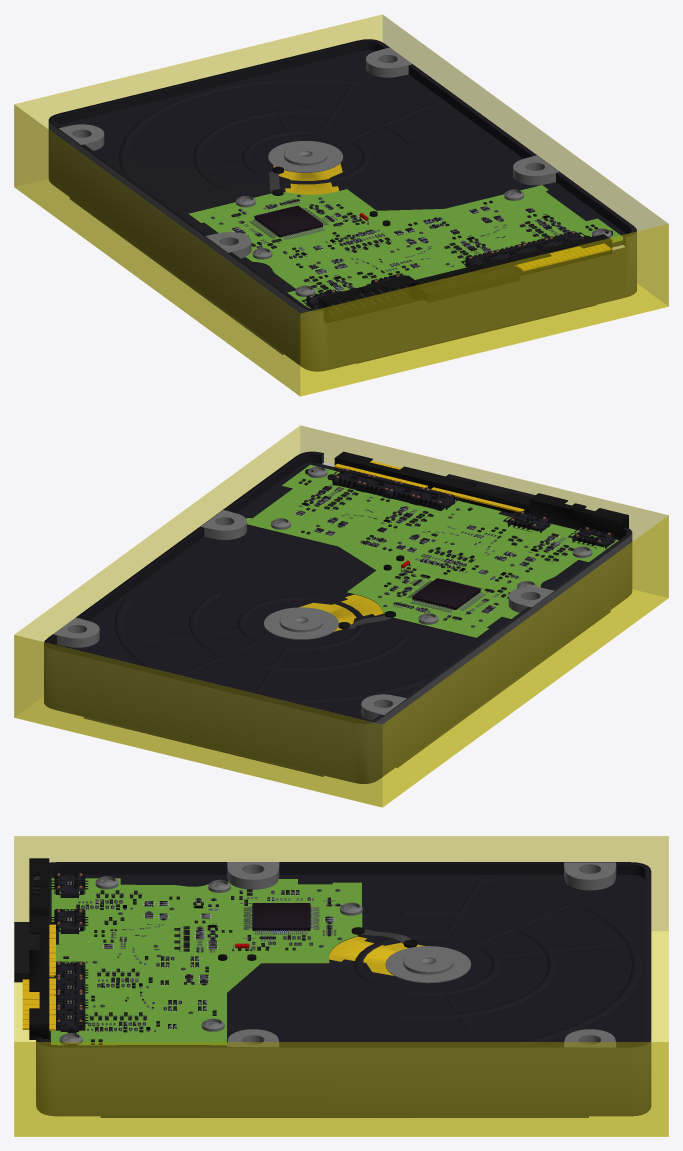
Rendered from HDD2.fbx.
3 views of the same model, one above another, from view 1: azimuth 30°, elevation 25°; view 2: azimuth 150°, elevation 25°; view 3: azimuth 270°, elevation 25° (orthographic). The views are drawn at different scales.
Parts seen in each view (by area): view 1: Box1888, highlight.001, Cube; view 2: Box1888, highlight.001; view 3: Box1888, highlight.001, Cube.
Boxes of the visible parts, left/top/right/bottom form: Box1888: left=48, top=39, right=636, bottom=371; highlight.001: left=14, top=14, right=668, bottom=396; Cube: left=420, top=266, right=519, bottom=302; Box1888: left=44, top=451, right=632, bottom=783; highlight.001: left=14, top=425, right=668, bottom=807; Box1888: left=22, top=858, right=651, bottom=1117; highlight.001: left=14, top=836, right=668, bottom=1136; Cube: left=14, top=922, right=39, bottom=982.
Size of the model in its own units: 1008 by 217 by 1356.
